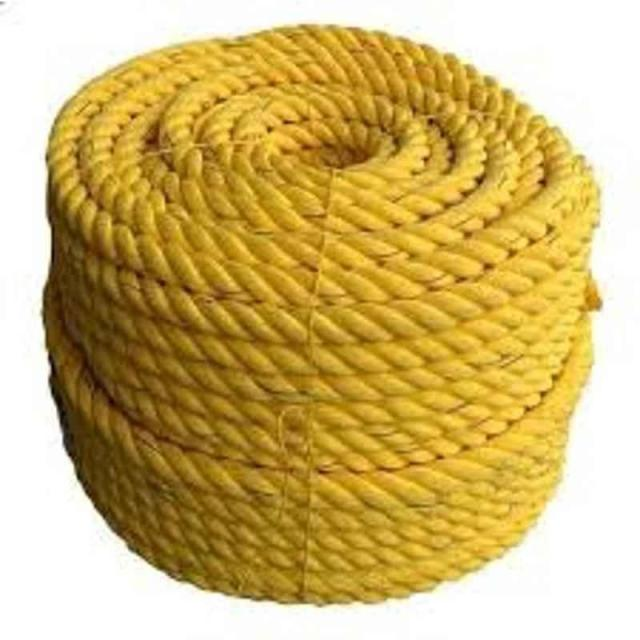Rope: (36, 15, 610, 612)
